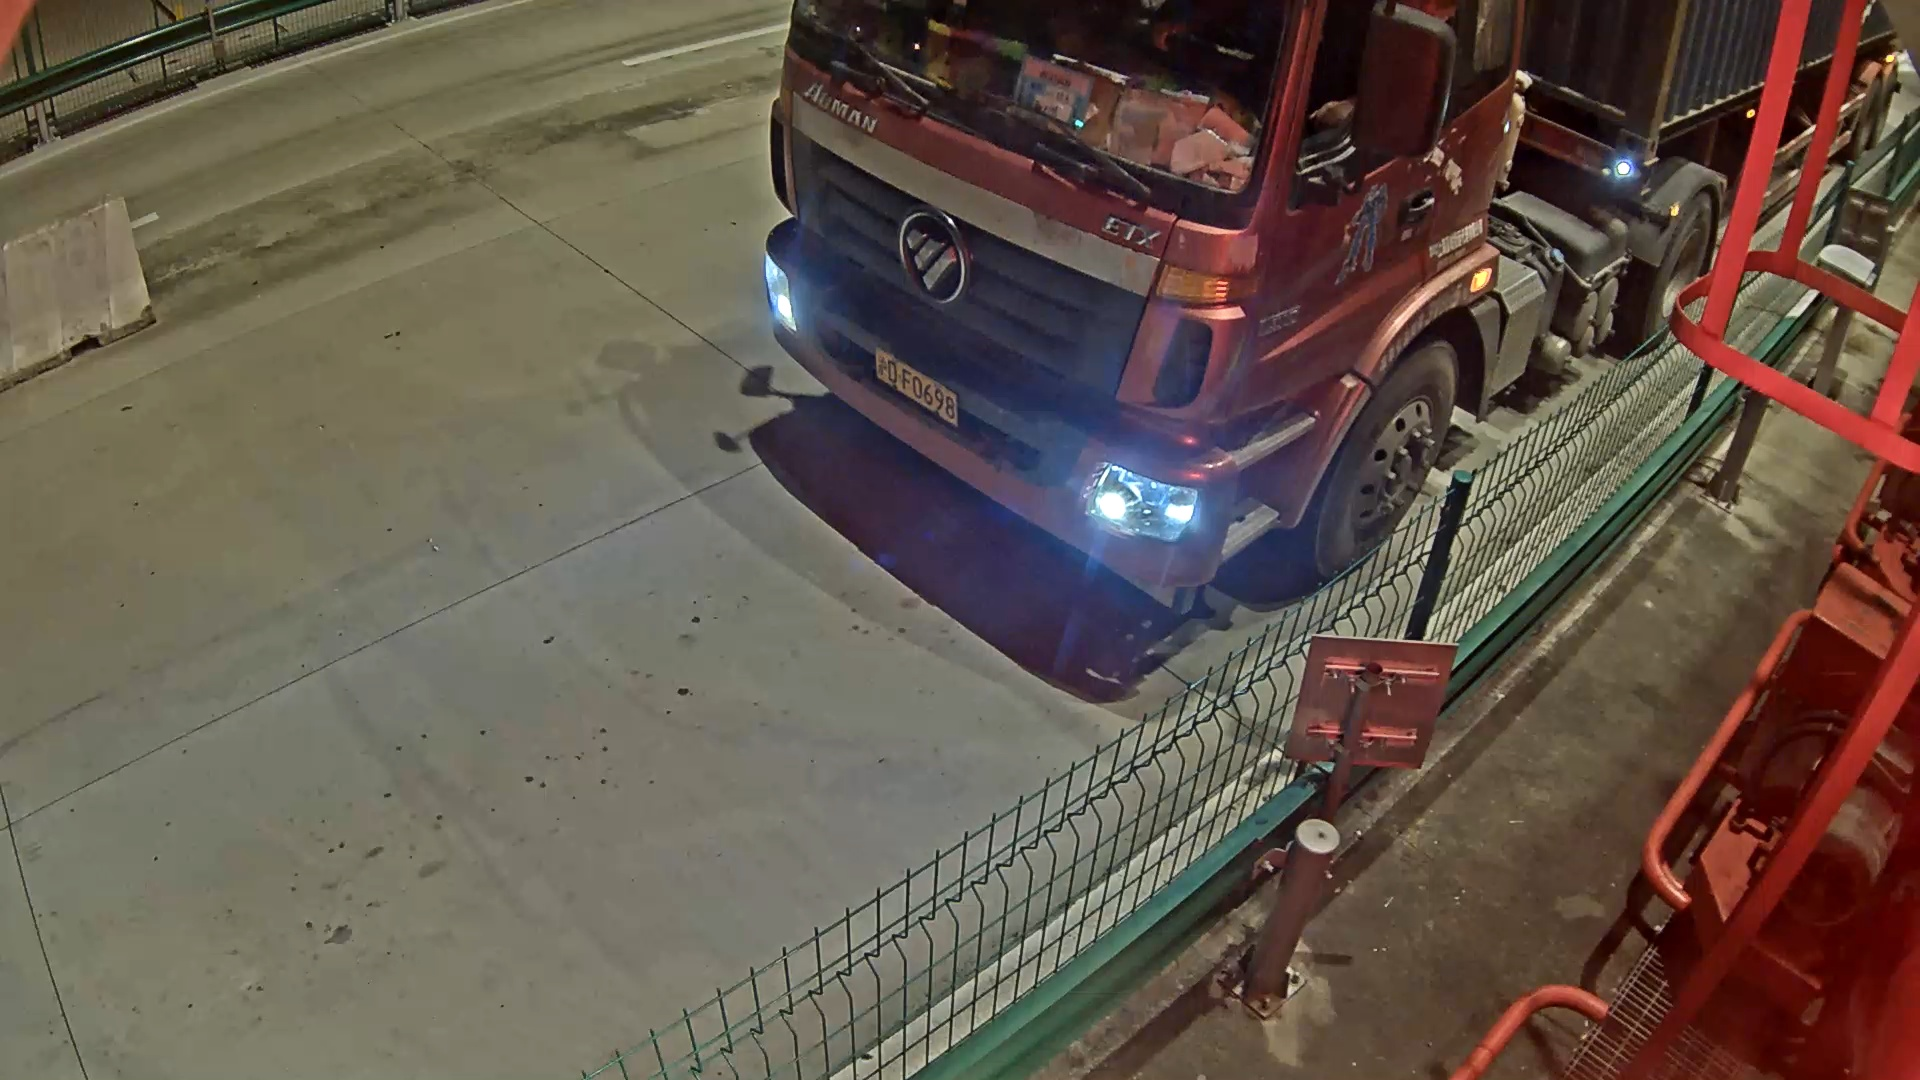head: (754, 11, 1410, 604)
plate: (863, 342, 985, 442)
